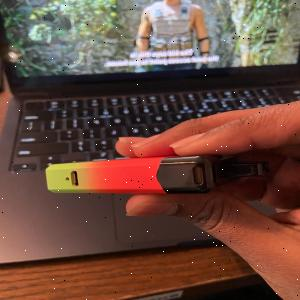Swift-E-Ciggirate: (44, 153, 270, 198)
